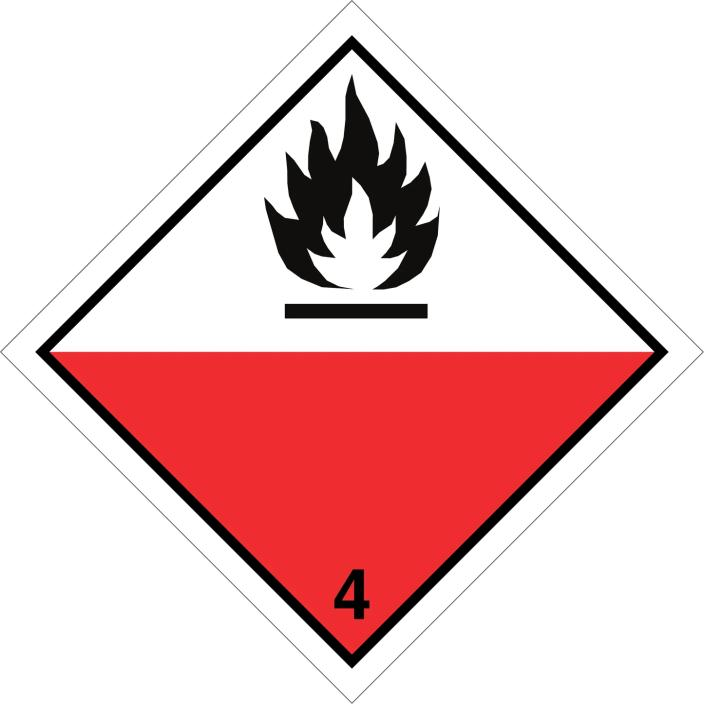charging station: (9, 5, 696, 697)
